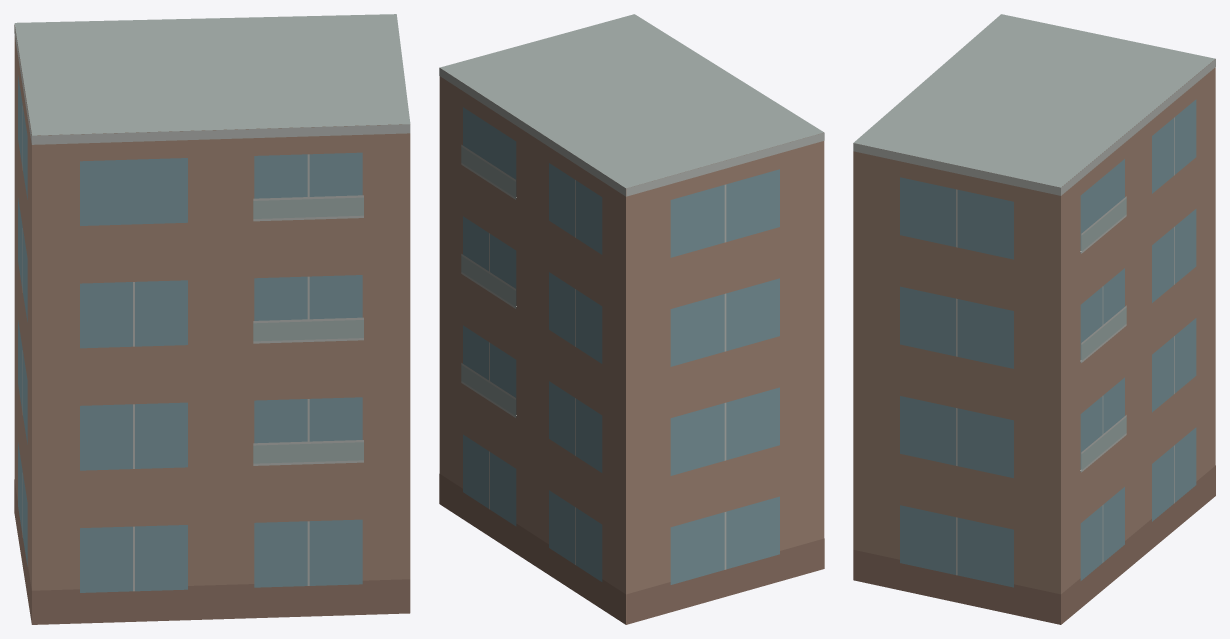
Rendered from survey-upis-32727009.glb.
The picture shows the model from 3 angles, left to right: view 1: azimuth 30°, elevation 25°; view 2: azimuth 150°, elevation 25°; view 3: azimuth 270°, elevation 25°; orthographic projection. The views are drawn at different scales.
Parts seen in each view (by area): view 1: survey-upis-32727009.tmp; view 2: survey-upis-32727009.tmp; view 3: survey-upis-32727009.tmp.
Part boxes in pixels (x1,y1,x2,y2): survey-upis-32727009.tmp: [14, 14, 410, 624]; survey-upis-32727009.tmp: [439, 14, 824, 624]; survey-upis-32727009.tmp: [853, 14, 1215, 624].
Size of the model in its own units: 10.95 by 12.85 by 9.66.
